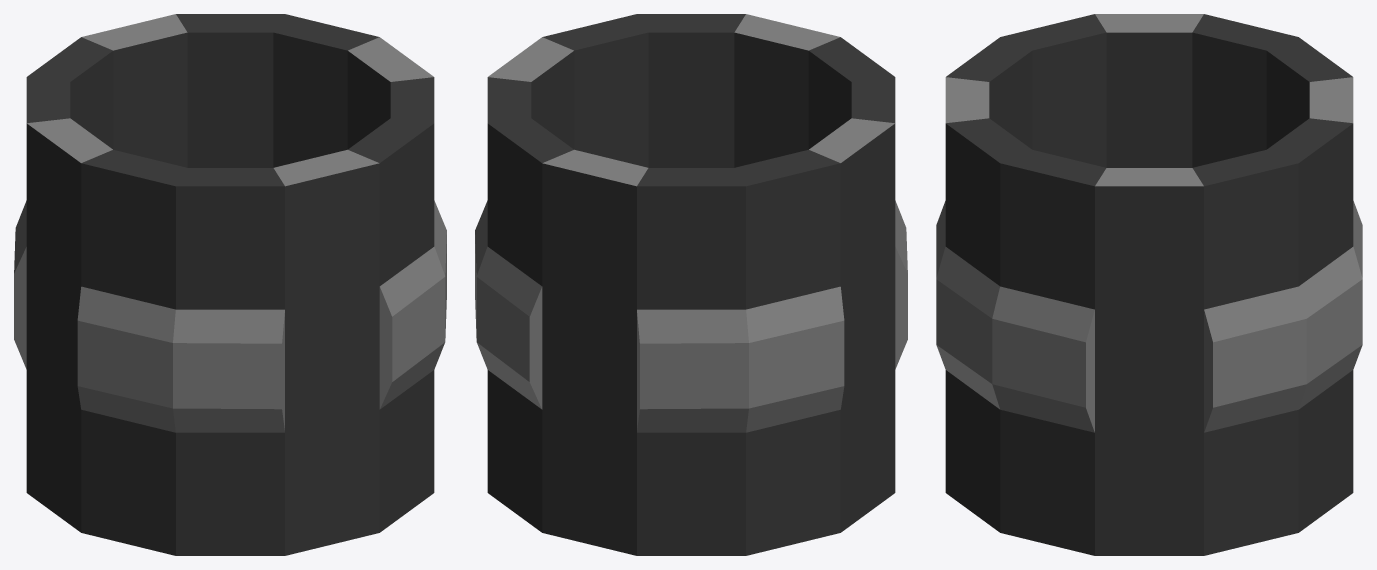
Rendered from MAG.obj.
3 renders of one model, left to right at view 1: azimuth 30°, elevation 25°; view 2: azimuth 150°, elevation 25°; view 3: azimuth 270°, elevation 25°, orthographic.
Parts seen in each view (by area): view 1: tube, tube_selection; view 2: tube, tube_selection; view 3: tube, tube_selection.
Part boxes in pixels (x1,y1,x2,y2): tube: [26, 14, 434, 555]; tube_selection: [14, 14, 446, 432]; tube: [487, 14, 895, 555]; tube_selection: [475, 14, 907, 432]; tube: [945, 14, 1353, 555]; tube_selection: [936, 14, 1362, 432].
Bounding box in the file's own units: 1.05 × 1 × 1.05.
